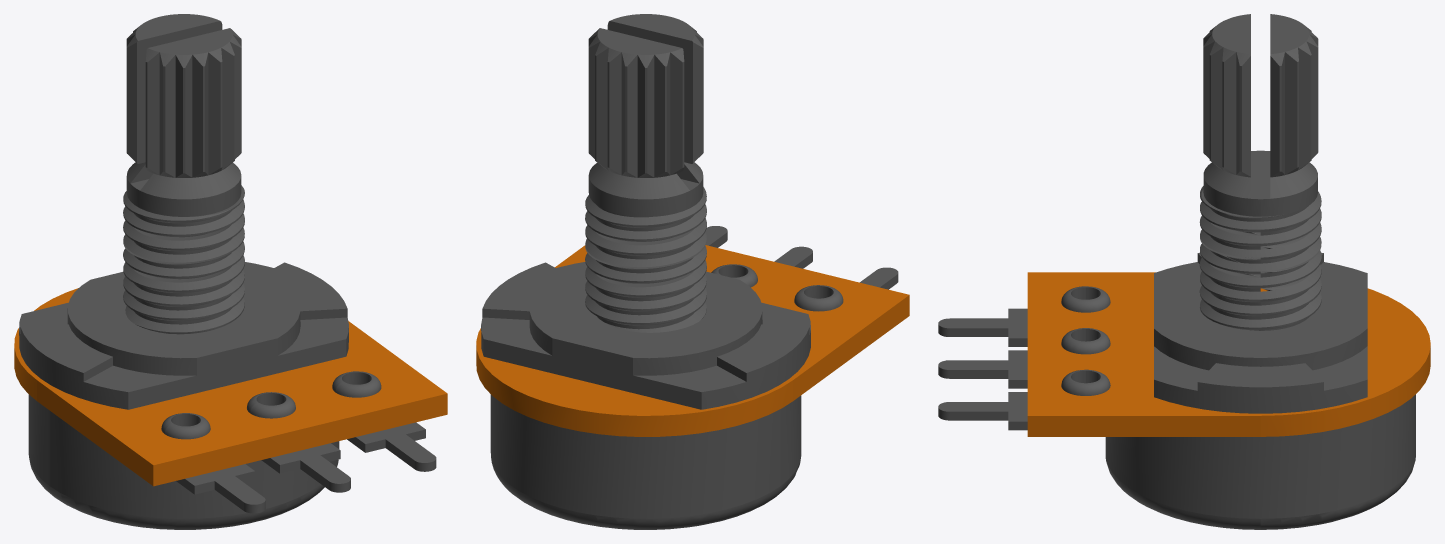
File: potentiometer.glb
The picture shows the model from 3 angles, left to right: view 1: azimuth 30°, elevation 25°; view 2: azimuth 150°, elevation 25°; view 3: azimuth 270°, elevation 25°; orthographic projection.
Parts seen in each view (by area): view 1: part (×7); view 2: part (×6); view 3: part (×7).
Part boxes in pixels (left/top/right/bottom): part (×7): left=14, top=14, right=447, bottom=529; part (×6): left=476, top=14, right=909, bottom=529; part (×7): left=938, top=14, right=1430, bottom=529.
Bounding box in the file's own units: 17.5 × 24.8 × 25.35.
